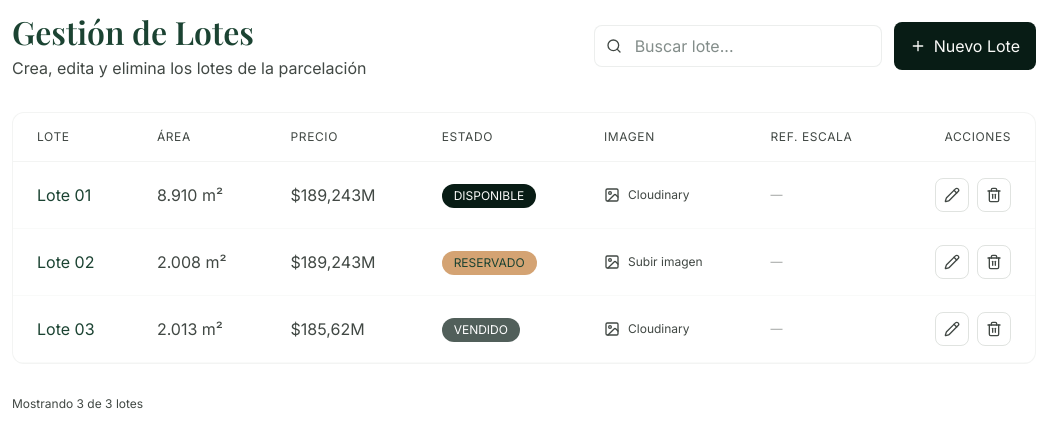
it: LotsPage › Search filtering › filters lots by ID
Type "01" into the field with placeholder "Buscar lote..." at (738, 46), box [594,25,882,67]
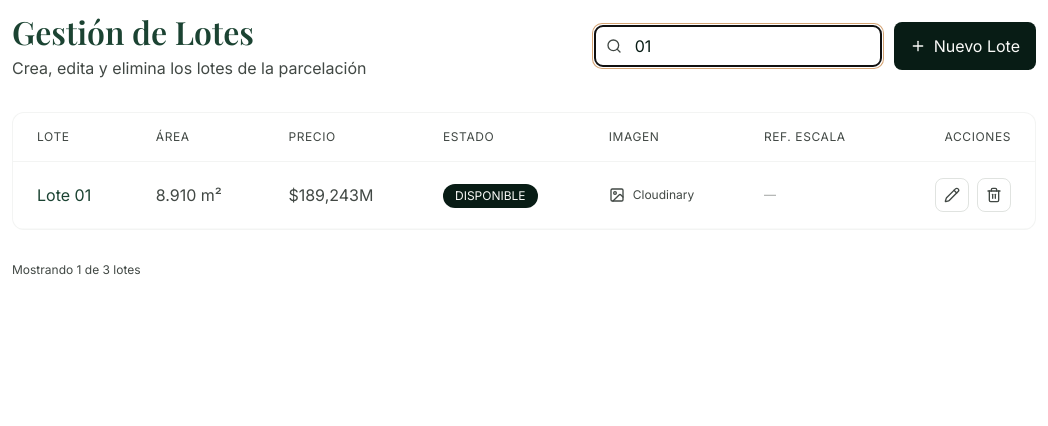
Result: the text "Lote 02" is gone
Result: the text "Lote 03" is gone
Result: the text "Mostrando 1 de 3 lotes" is shown at [12,262,141,277]
